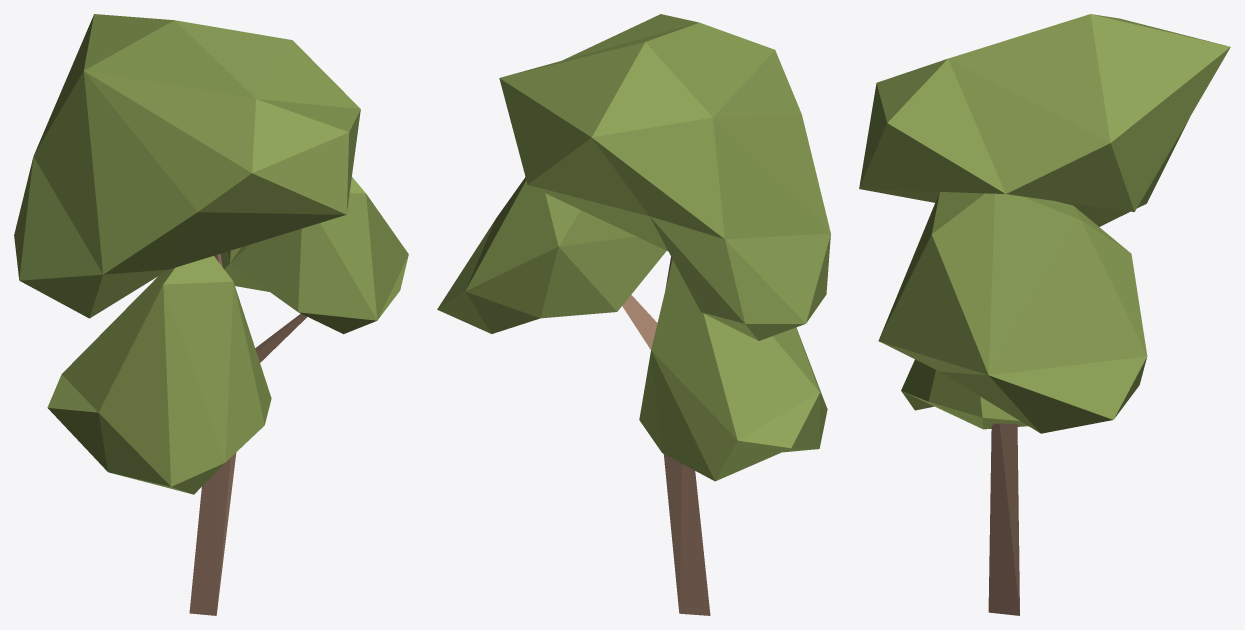
The model's file is tree_0301.dae.
3 renders of one model, left to right at view 1: azimuth 30°, elevation 25°; view 2: azimuth 150°, elevation 25°; view 3: azimuth 270°, elevation 25°, orthographic. The views are drawn at different scales.
Visible parts, largest first — view 1: tree_0301; view 2: tree_0301; view 3: tree_0301.
Boxes of the visible parts, x1,y1,x2,y2 form: tree_0301: [14, 14, 408, 615]; tree_0301: [437, 14, 830, 615]; tree_0301: [859, 14, 1230, 615].
Size of the model in its own units: 1.21 by 1.07 by 1.91.
